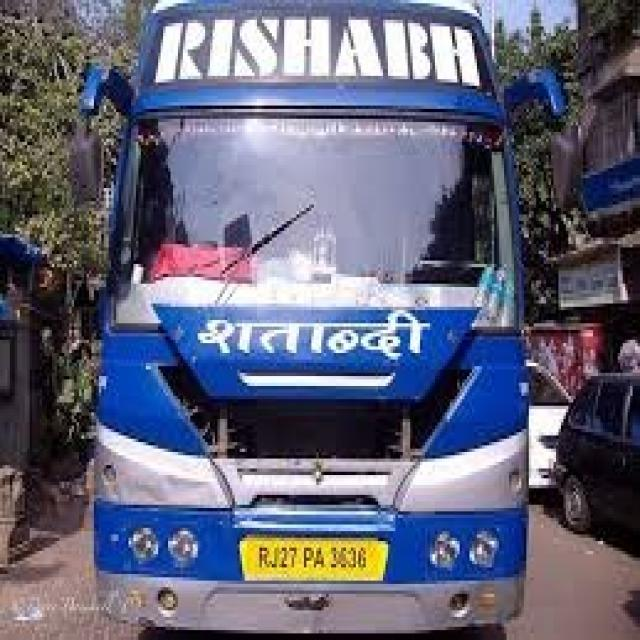bus: (47, 0, 598, 640)
